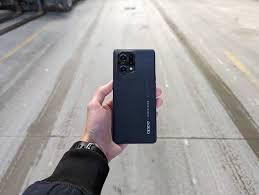Hand: (87, 82, 163, 153)
Smartphone: (112, 46, 156, 144)
